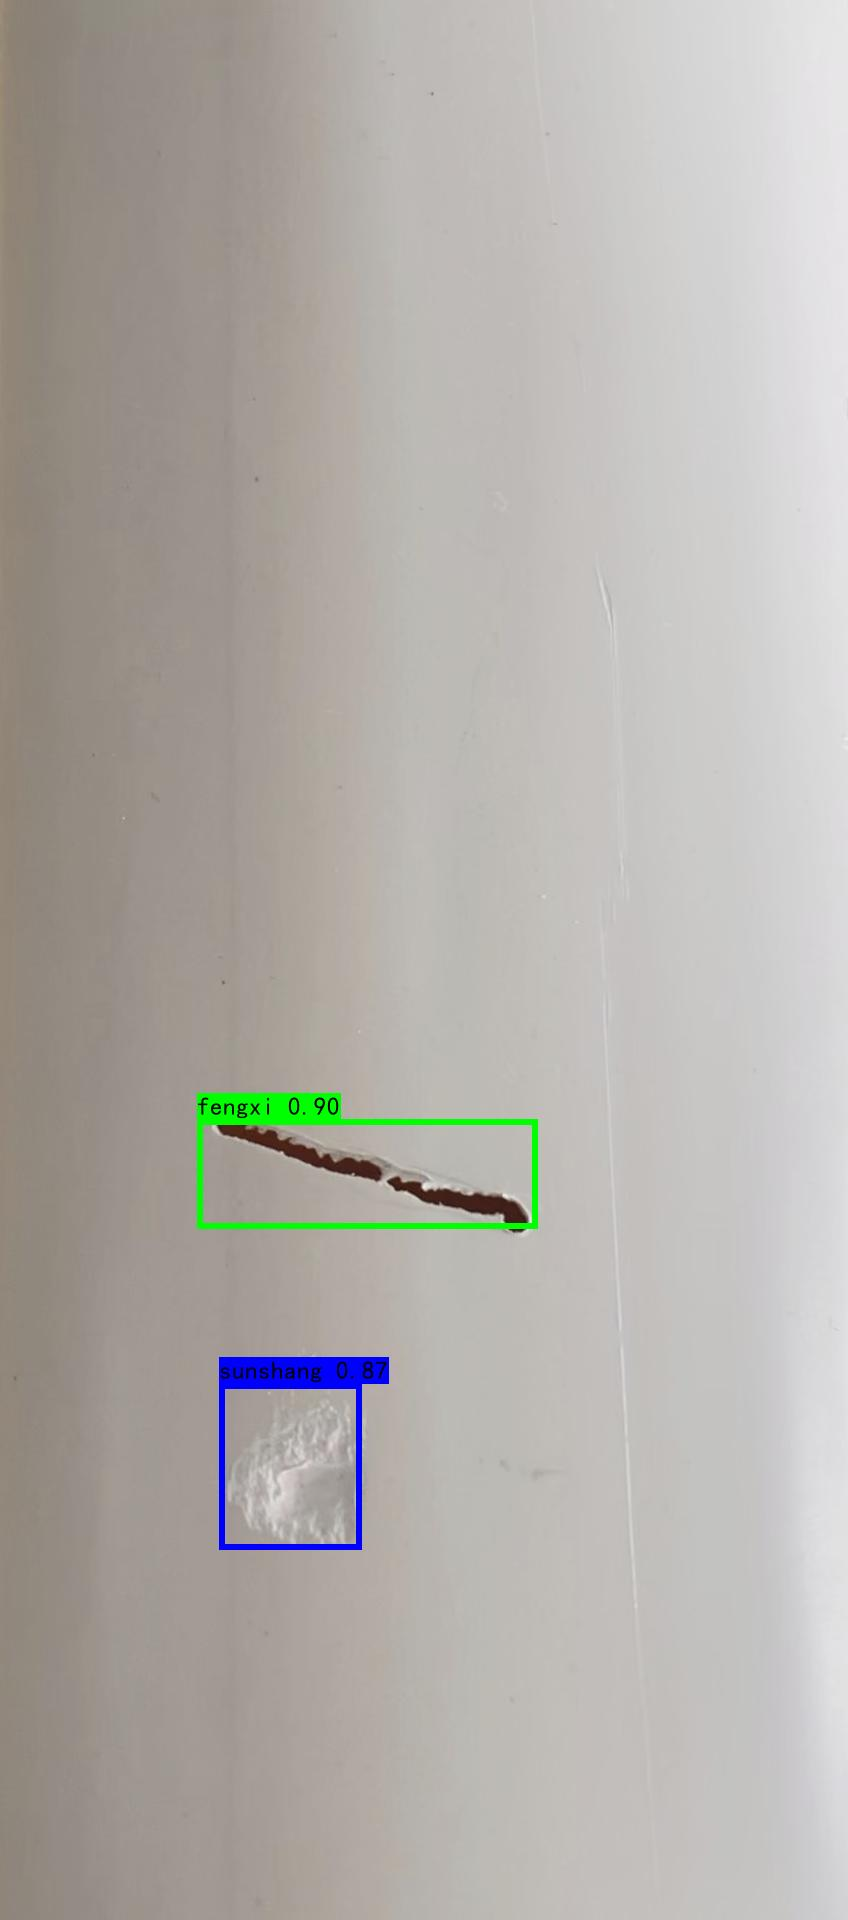fengxi: (201, 1092, 562, 1254)
sunshang: (217, 1390, 387, 1576)
